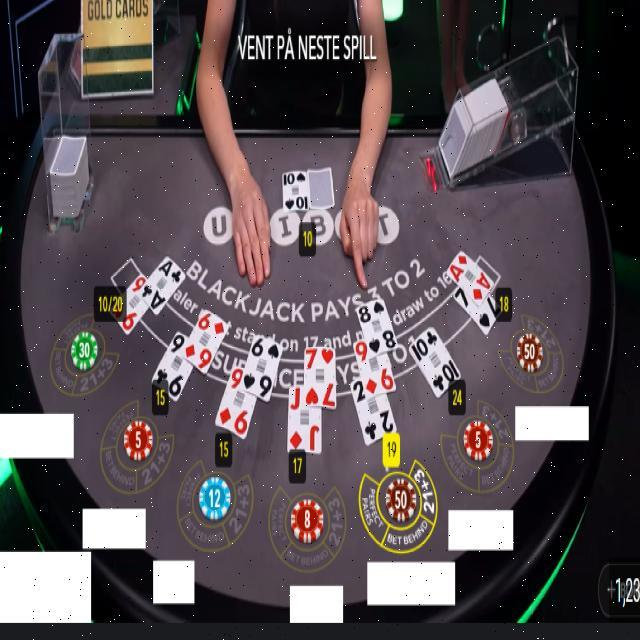Card-10: (408, 325, 461, 401), (281, 170, 309, 210)
Card-2: (350, 378, 397, 446)
Card-6: (184, 307, 228, 375), (242, 334, 282, 402)
Card-7: (454, 288, 502, 335), (304, 347, 336, 406)
Card-8: (355, 298, 397, 353)
Card-9: (151, 330, 193, 404), (215, 367, 258, 437), (110, 268, 148, 338), (353, 338, 395, 394)
Card-A: (447, 249, 494, 308), (142, 253, 184, 317)
Card-J: (288, 387, 321, 451)
